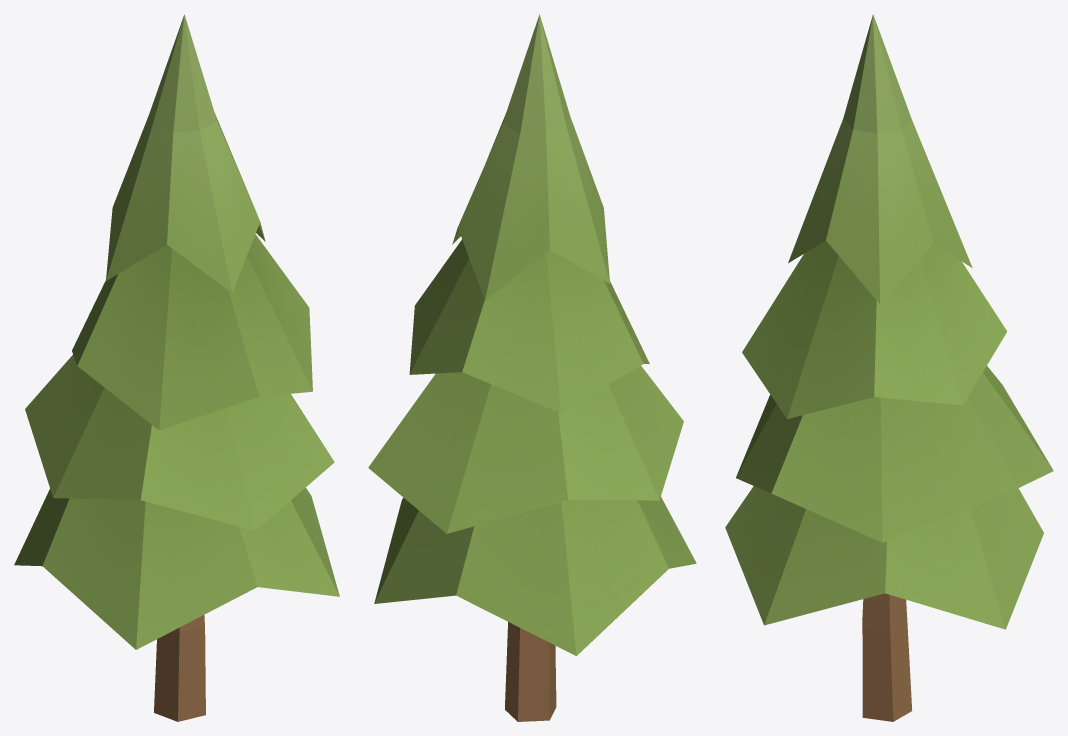
File: Pine_Tree_OneSided_m_02.fbx
The picture shows the model from 3 angles, left to right: view 1: azimuth 30°, elevation 25°; view 2: azimuth 150°, elevation 25°; view 3: azimuth 270°, elevation 25°; orthographic projection.
Parts seen in each view (by area): view 1: Pine_Tree_OneSided_m_02; view 2: Pine_Tree_OneSided_m_02; view 3: Pine_Tree_OneSided_m_02.
Boxes of the visible parts, <box> form: Pine_Tree_OneSided_m_02: <box>14,14,339,721</box>; Pine_Tree_OneSided_m_02: <box>368,14,696,721</box>; Pine_Tree_OneSided_m_02: <box>725,14,1053,721</box>.
Bounding box in the file's own units: 430 × 1069 × 457.
